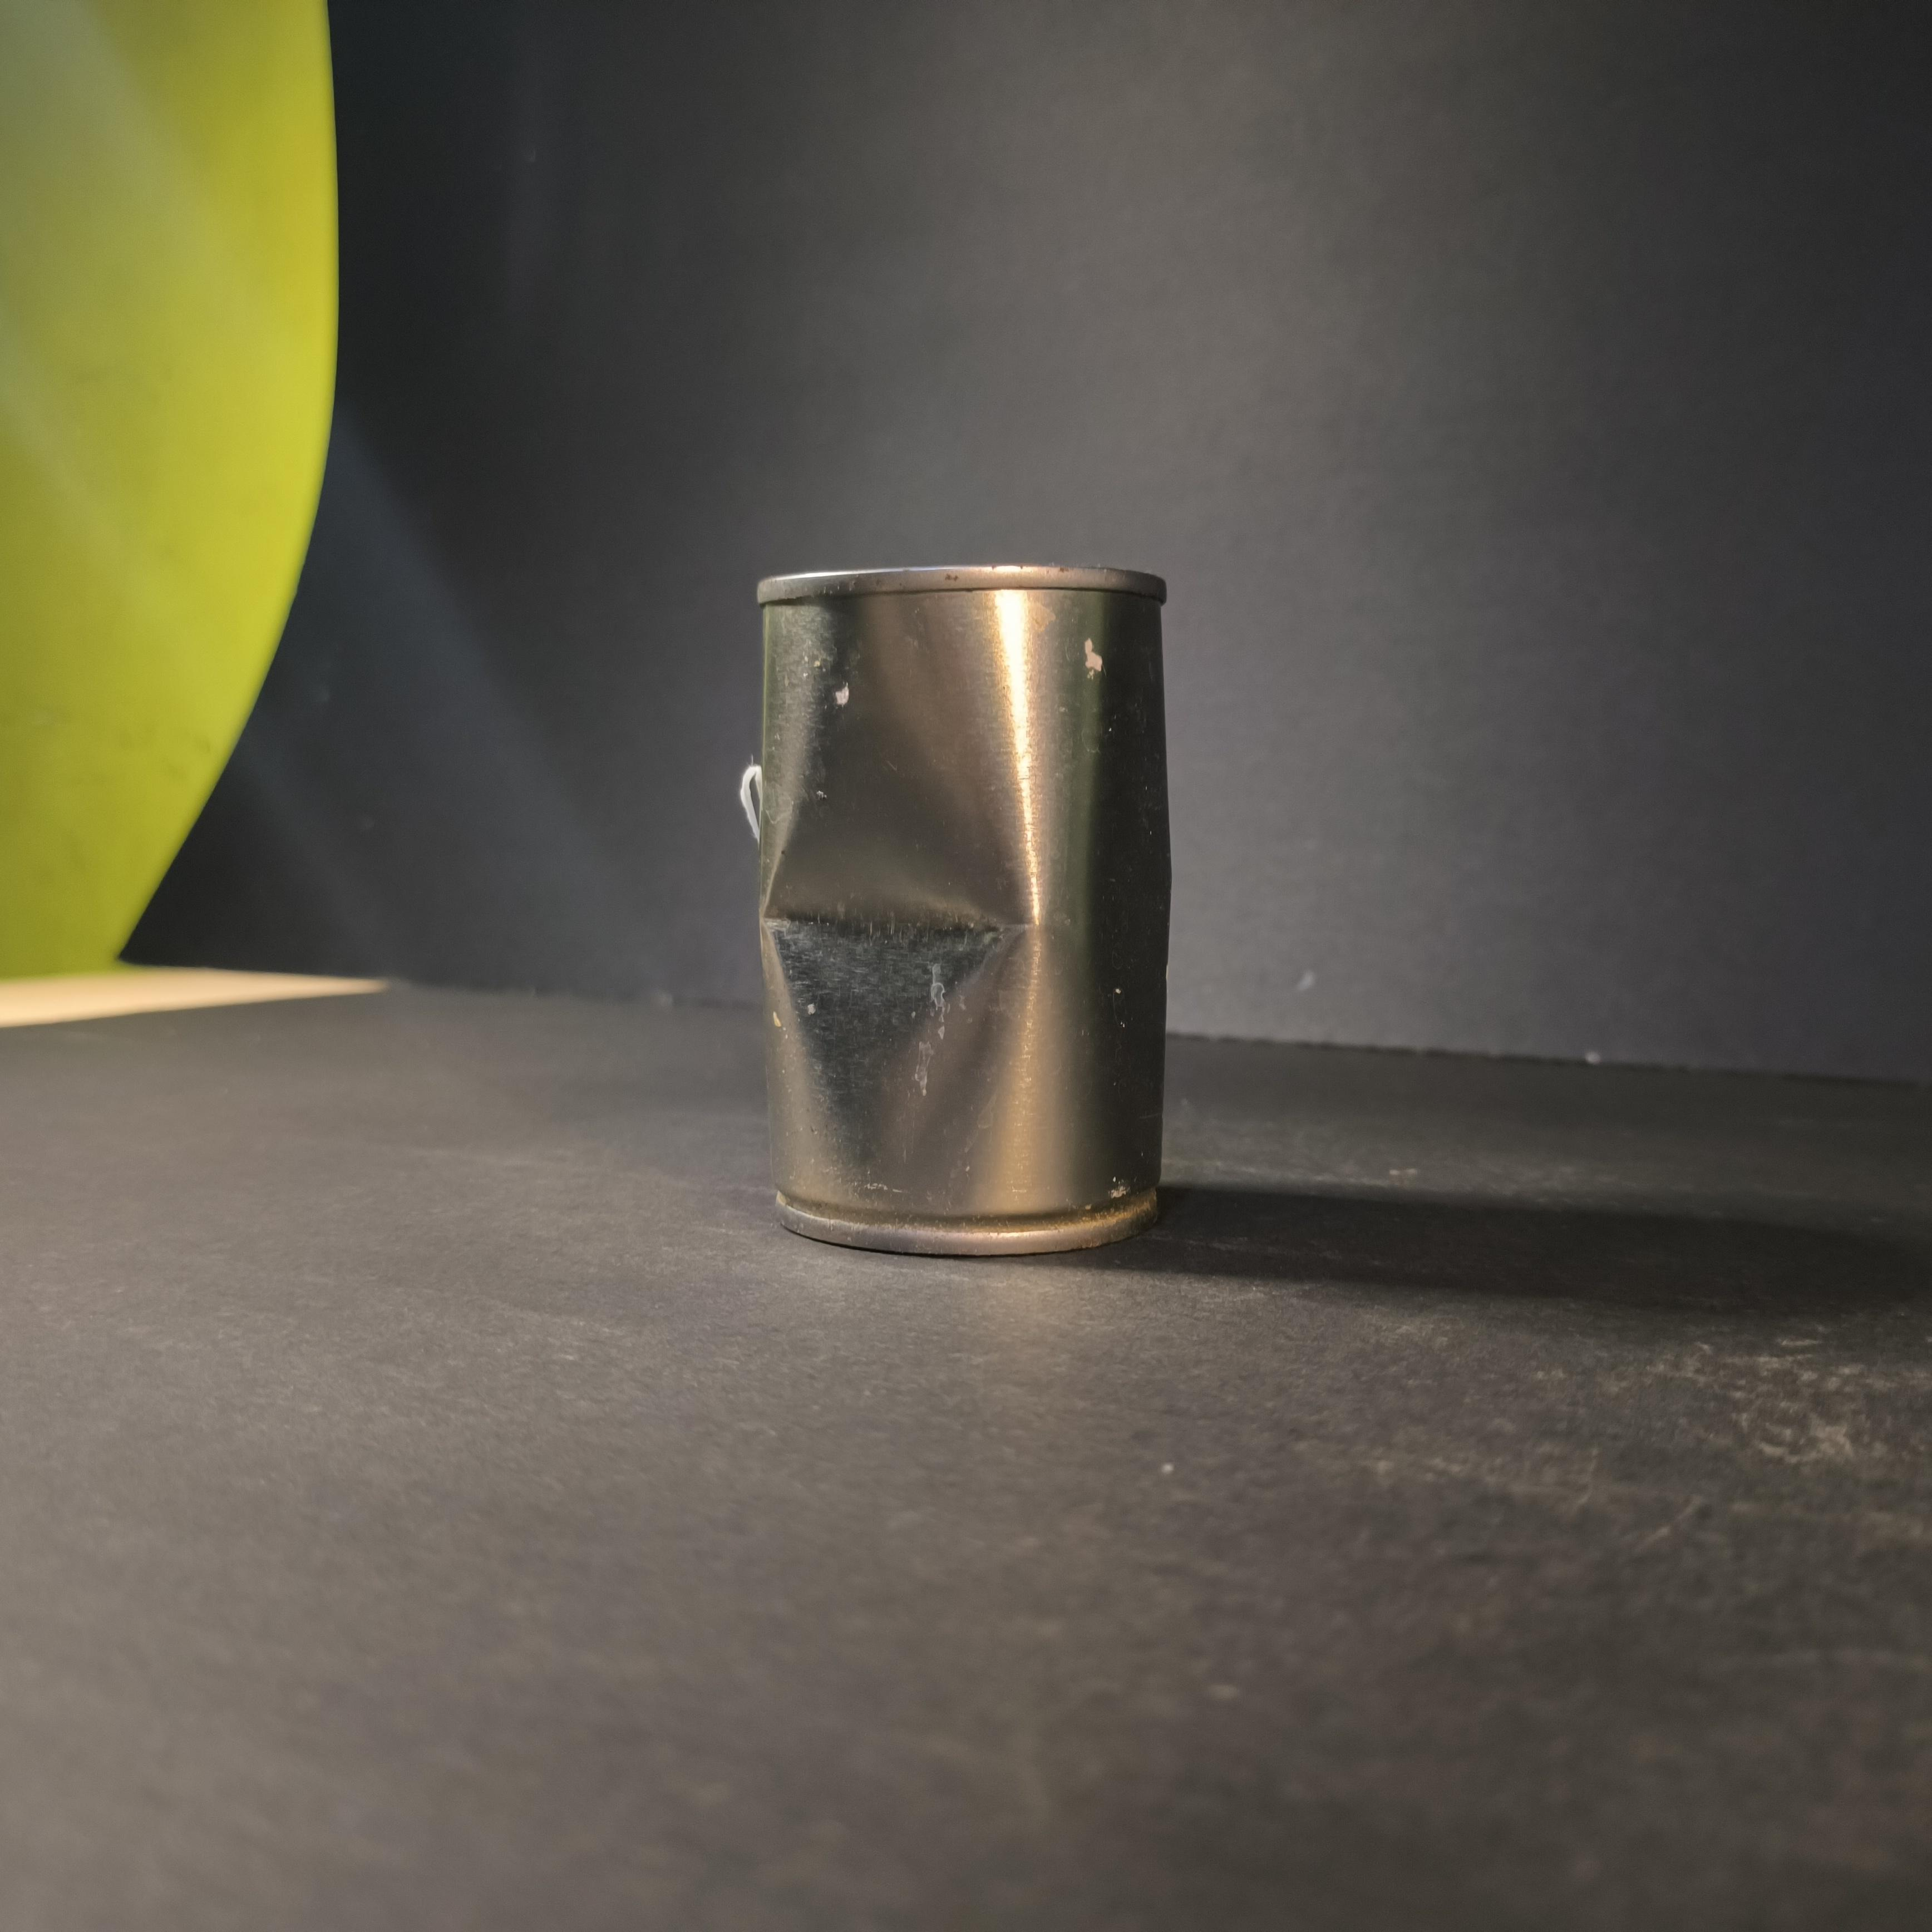Minor Defect: (752, 559, 1178, 1261)
